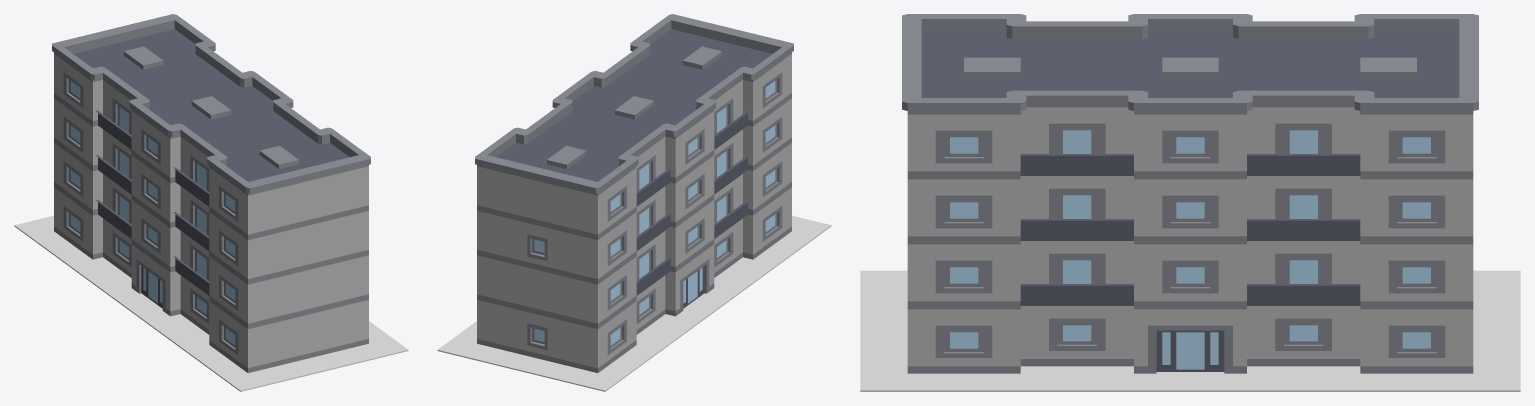
3 views of the same model, side by side, from view 1: azimuth 30°, elevation 25°; view 2: azimuth 150°, elevation 25°; view 3: azimuth 270°, elevation 25° (orthographic). The views are drawn at different scales.
Parts seen in each view (by area): view 1: large_buildingA, Cube; view 2: large_buildingA, Cube; view 3: large_buildingA, Cube.
Boxes of the visible parts, <box> form: large_buildingA: <box>52,14,370,372</box>; Cube: <box>14,215,408,391</box>; large_buildingA: <box>475,14,793,372</box>; Cube: <box>437,215,831,391</box>; large_buildingA: <box>902,14,1478,373</box>; Cube: <box>860,270,1520,391</box>.
Size of the model in its own units: 30 by 32.02 by 70.
